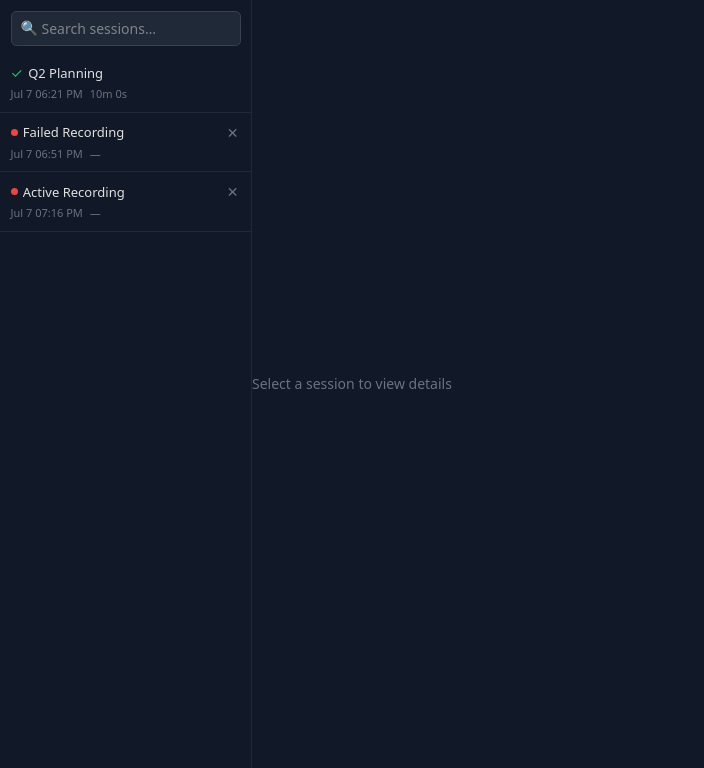
Test: VoiceMemoryWindow › deselects session when the selected session is deleted
Note: Select the recording session by clicking its title text in the list
Click the text "Active Recording". click: (74, 192)
box: x1=23 y1=183 x2=125 y2=201
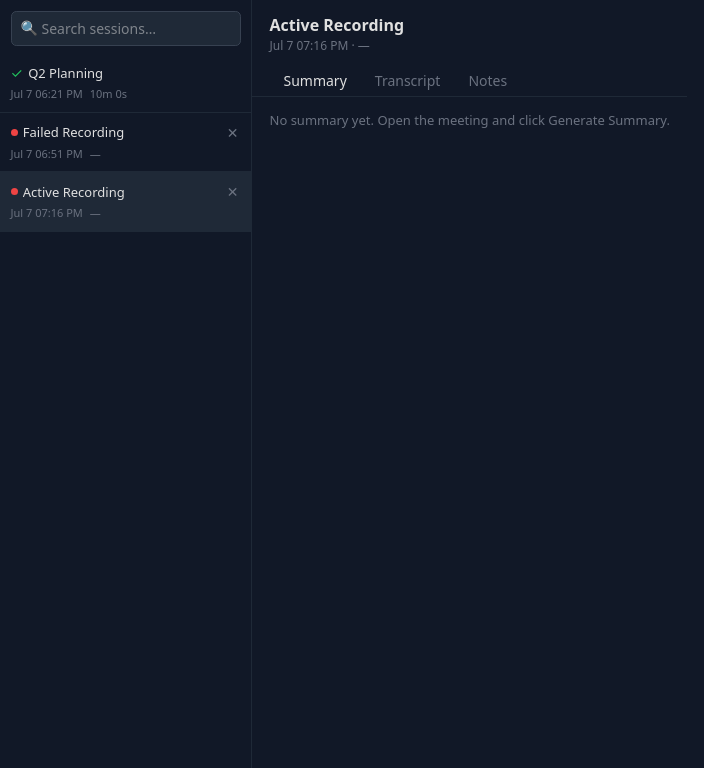
Click the 2nd button titled "Delete this session". click: (233, 192)
box: x1=225 y1=182 x2=240 y2=202
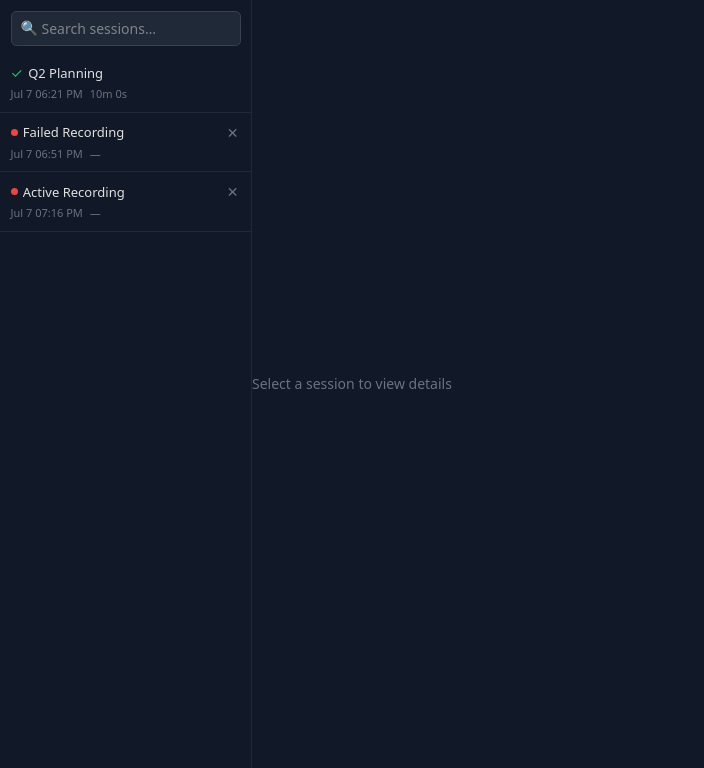
Check: the text "Select a session to view details" is shown, box x1=252 y1=374 x2=452 y2=393
